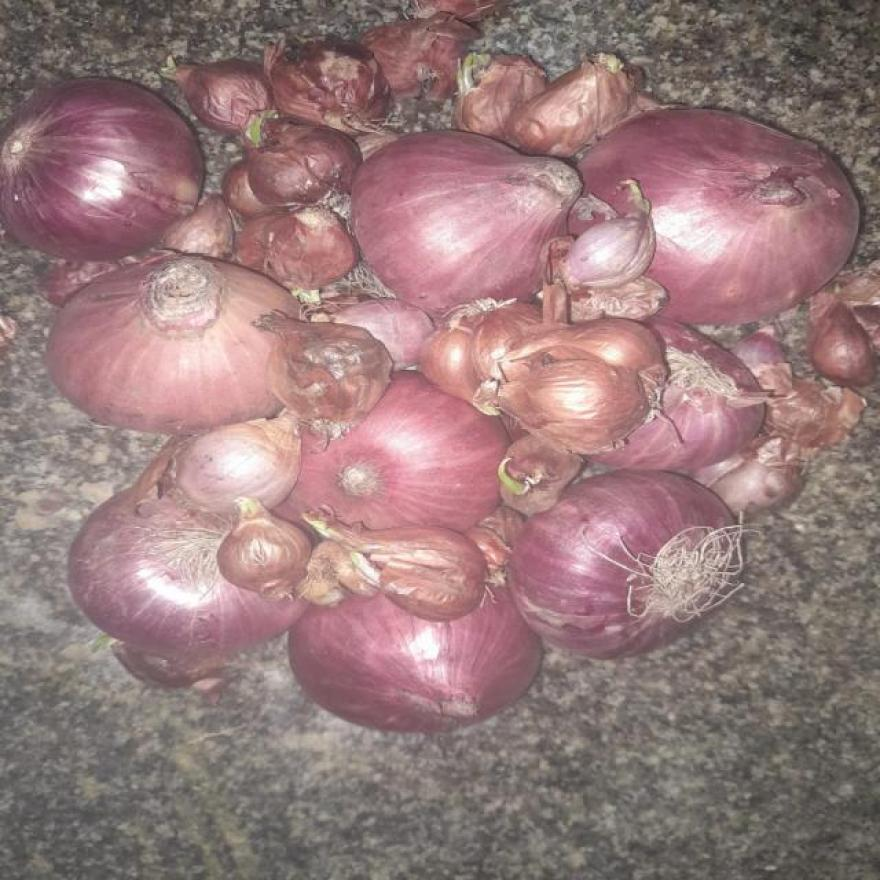Sprouted: (486, 453, 552, 509), (296, 498, 362, 542)
